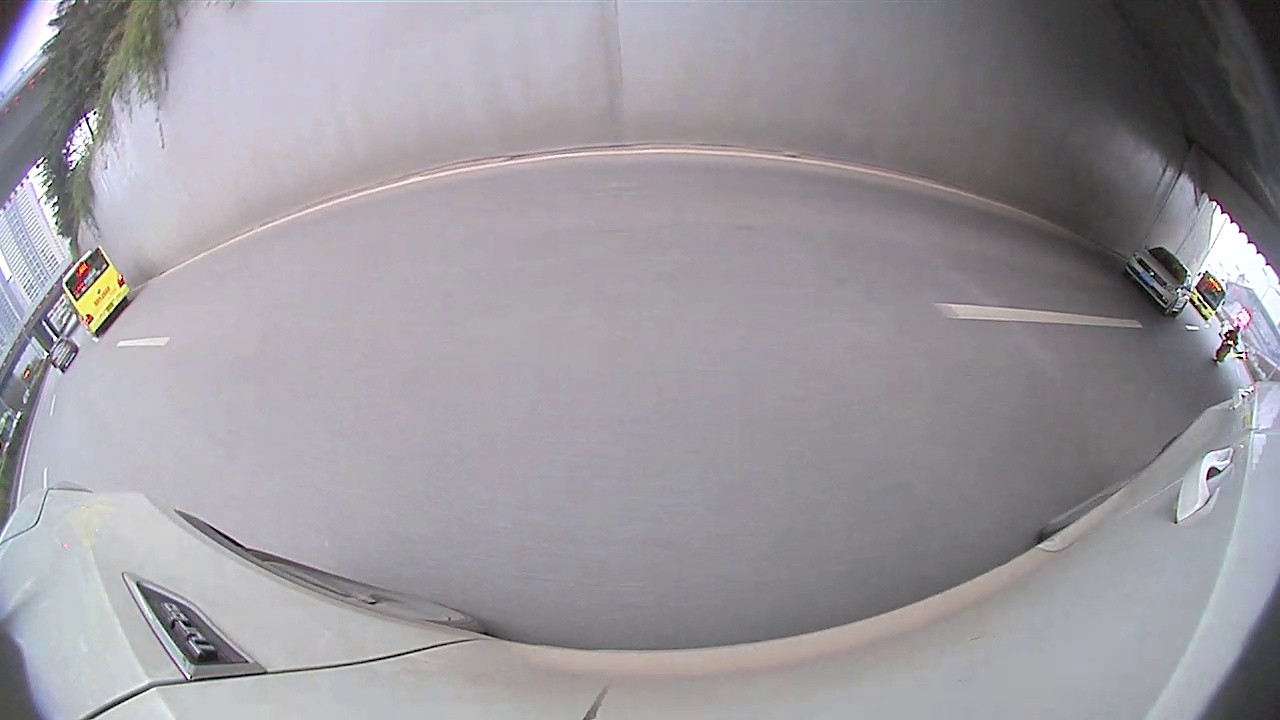bus: (1020, 132, 1277, 396)
car: (865, 150, 1210, 374), (2, 256, 232, 494), (427, 140, 552, 227), (549, 155, 591, 190)
front: (120, 330, 218, 440), (868, 202, 902, 248), (535, 181, 548, 204)
rear: (1026, 262, 1098, 345), (499, 183, 520, 217)
truck: (565, 0, 888, 229)
